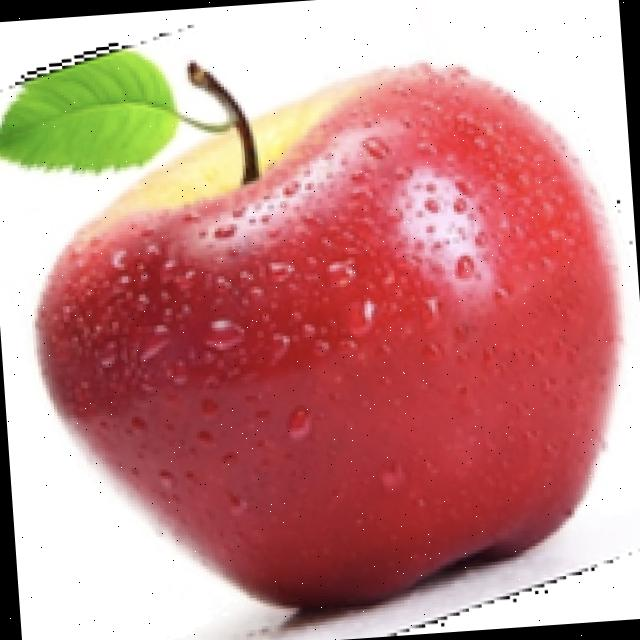apple: (0, 33, 627, 640)
